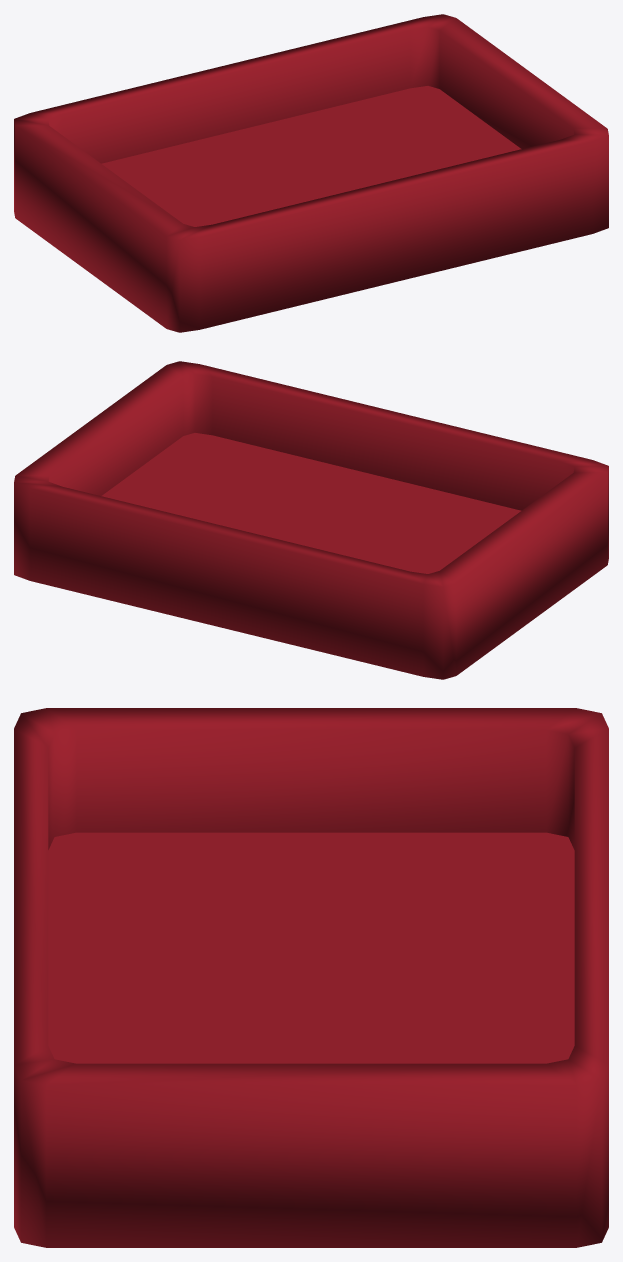
File: DiscardPile.fbx
3 renders of one model, top to bottom at view 1: azimuth 30°, elevation 25°; view 2: azimuth 150°, elevation 25°; view 3: azimuth 270°, elevation 25°, orthographic. The views are drawn at different scales.
Visible parts, largest first — view 1: Pila_Descarte; view 2: Pila_Descarte; view 3: Pila_Descarte.
Part boxes in pixels (<box>): Pila_Descarte: <box>14,14,608,332</box>; Pila_Descarte: <box>14,361,608,679</box>; Pila_Descarte: <box>14,708,608,1247</box>.
Size of the model in its own units: 279 by 56.06 by 186.
1 material, 1 textured.
